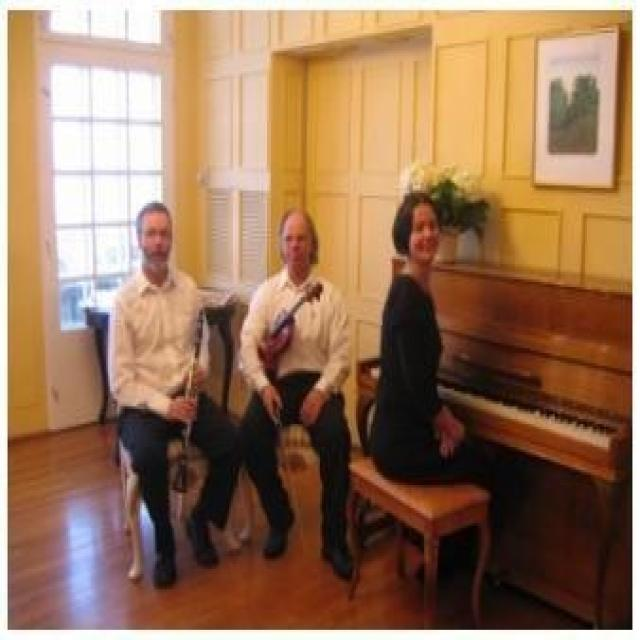clarinet: (173, 306, 207, 497)
violin: (260, 281, 324, 368)
